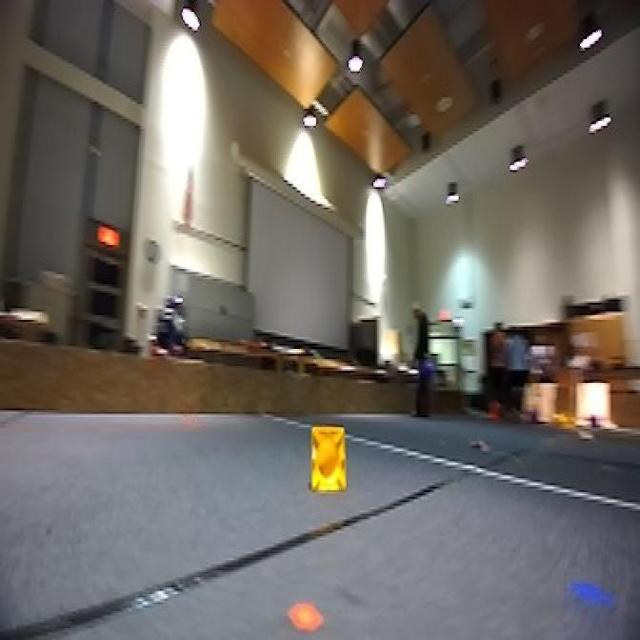frc_cone: (305, 424, 354, 500)
